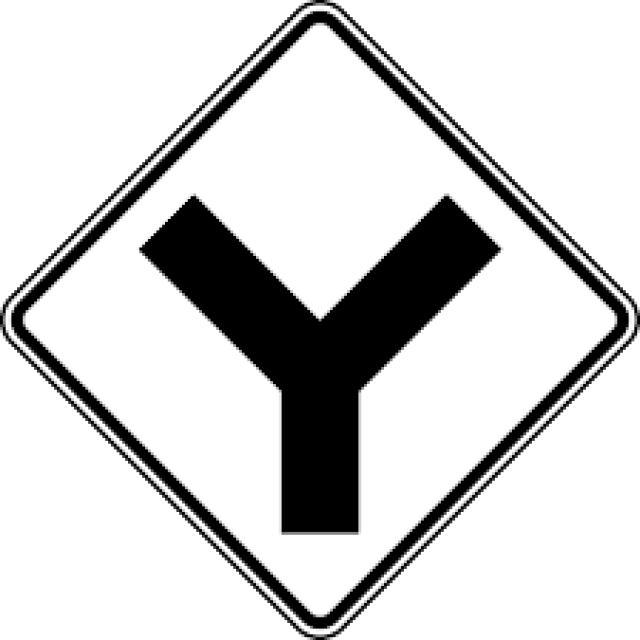y intersection: (24, 20, 613, 615)
